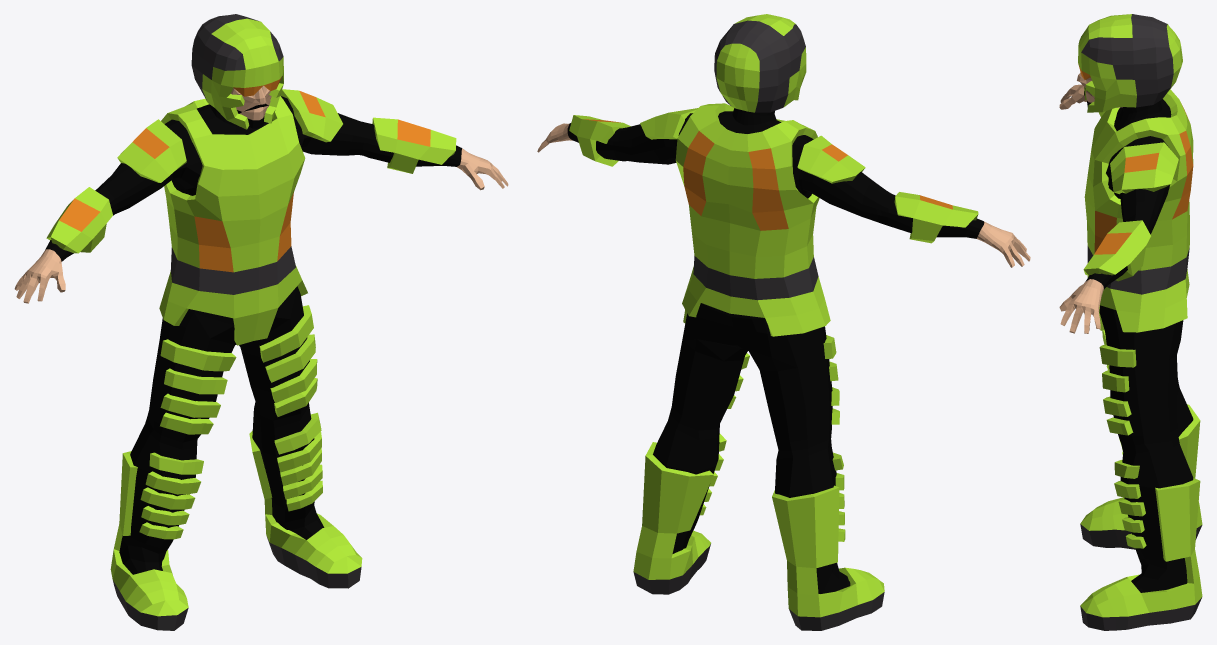
File: Personaje Verde.fbx
3 views of the same model, side by side, from view 1: azimuth 30°, elevation 25°; view 2: azimuth 150°, elevation 25°; view 3: azimuth 270°, elevation 25° (orthographic).
Visible parts, largest first — view 1: Plane.020, Plane.019; view 2: Plane.020, Plane.019; view 3: Plane.020, Plane.019.
Part boxes in pixels (bbox=[...]): Plane.020: bbox=[46, 14, 456, 630]; Plane.019: bbox=[14, 85, 508, 574]; Plane.020: bbox=[569, 14, 978, 630]; Plane.019: bbox=[537, 108, 1030, 593]; Plane.020: bbox=[1078, 14, 1202, 630]; Plane.019: bbox=[1059, 72, 1193, 592].
Size of the model in its own units: 1.61 by 1.82 by 0.4184.
